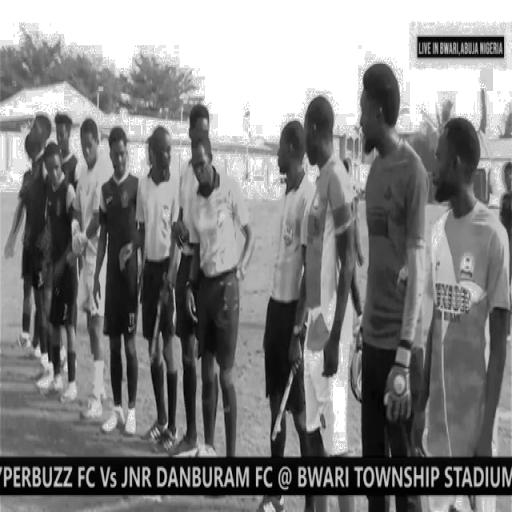keeper1: (358, 68, 424, 456)
keeper2: (73, 108, 106, 419)
referee: (180, 114, 240, 462), (260, 124, 306, 456), (144, 120, 178, 446)
team1: (434, 105, 507, 455), (301, 98, 354, 458)
team2: (22, 103, 74, 390), (108, 119, 139, 441)
